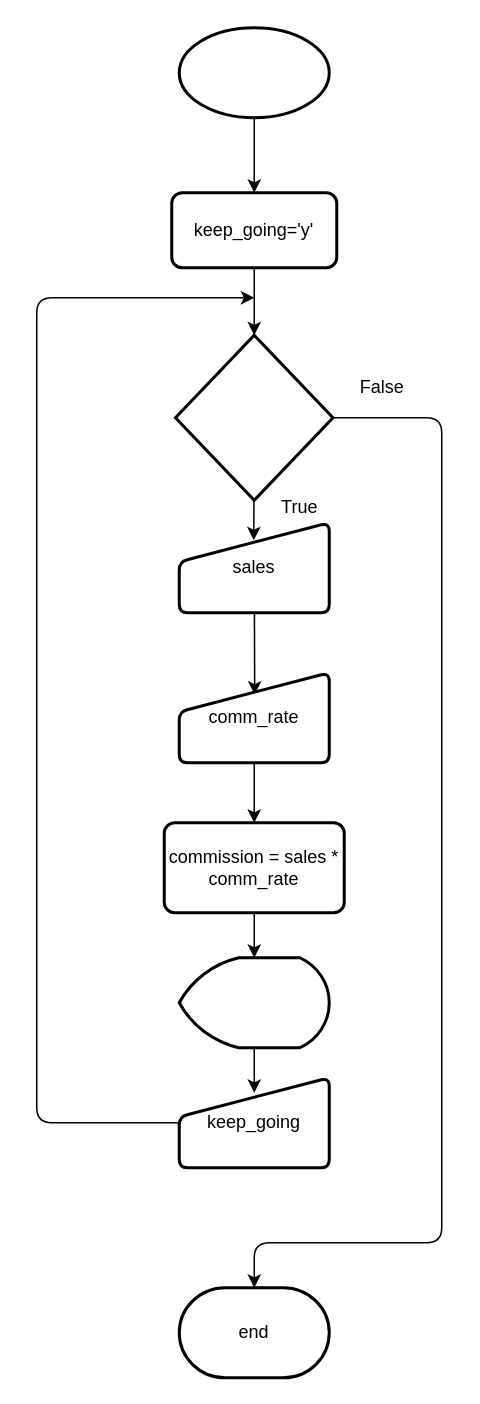
Some shapes in this 480 by 1404 pixel diagram are drawn without their labels. The shapes that lost their labels are listed below. From the top down, each one's box as (x1, y1, x2, y2) in pixels, then its label:
(177, 26, 330, 118): start
(173, 333, 334, 501): keep_going == 'y'
(177, 956, 330, 1048): commission
